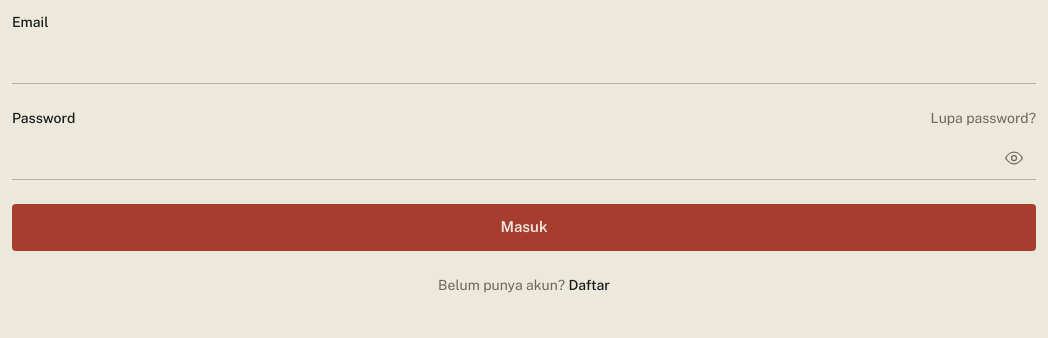
LoginForm › shows backend field errors inline (VALIDATION_ERROR)
Type "a@b.com" into the field labelled "Email" at (524, 62), box [12,40,1036,84]
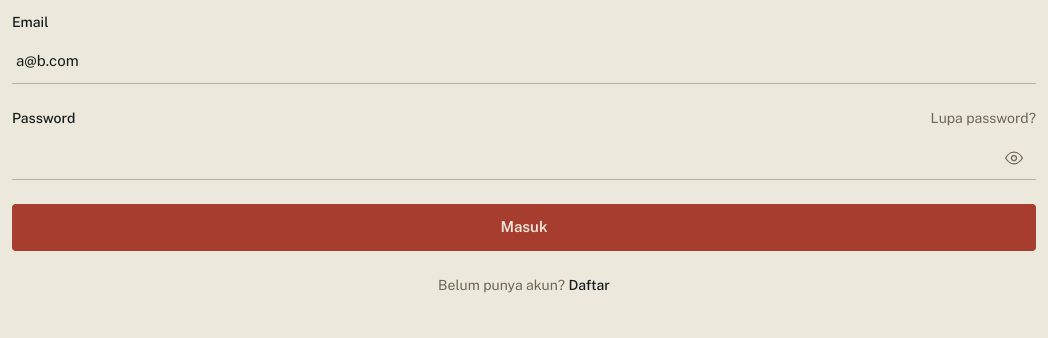
Type "Test1234" into the password field labelled "Password" at (524, 158), box [12,136,1036,180]
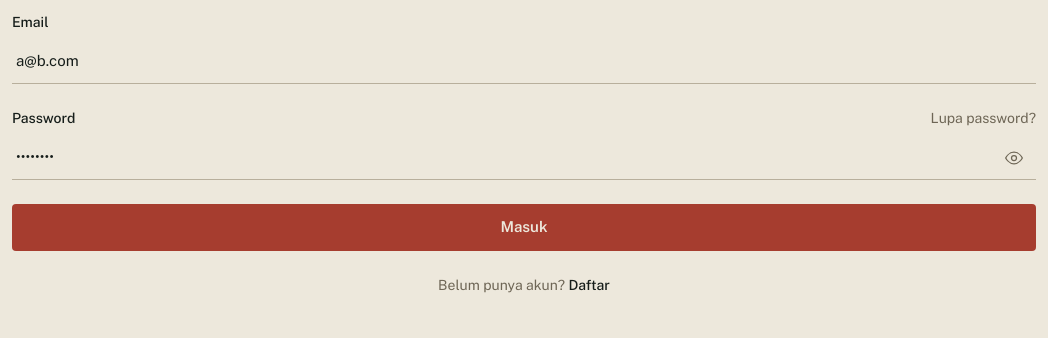
Click the button "Masuk" at (524, 227), box [12,204,1036,250]
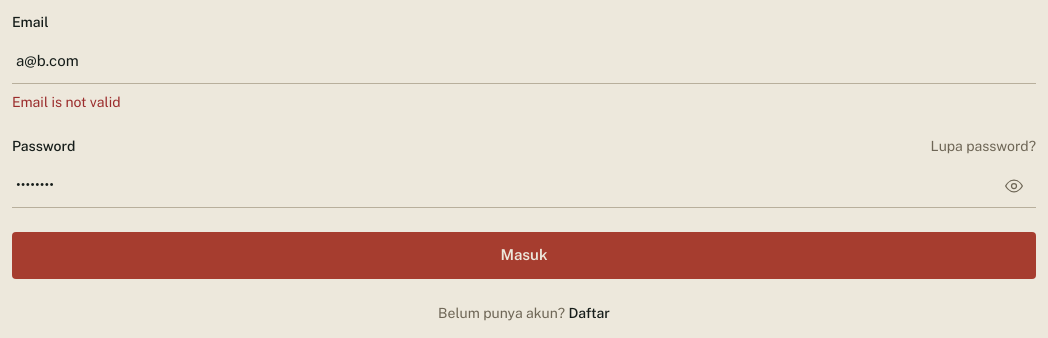
Expected: the text "Email is not valid" is shown, [12,94,120,110]
